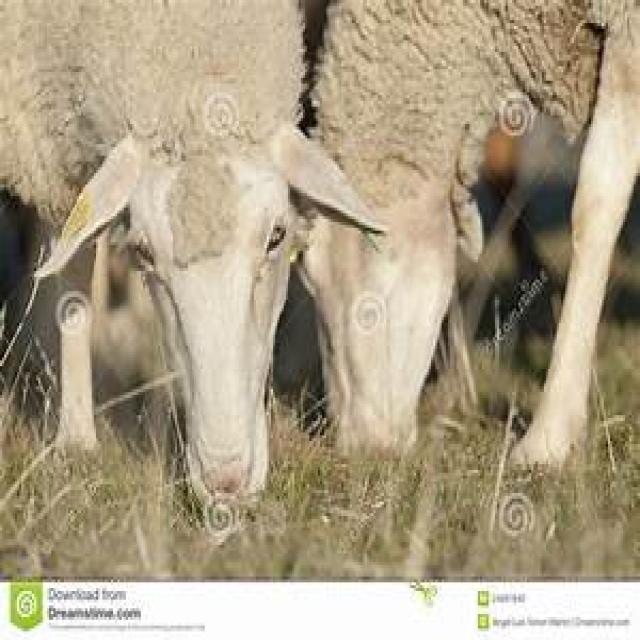sheep: (3, 8, 313, 618), (317, 18, 640, 516)
